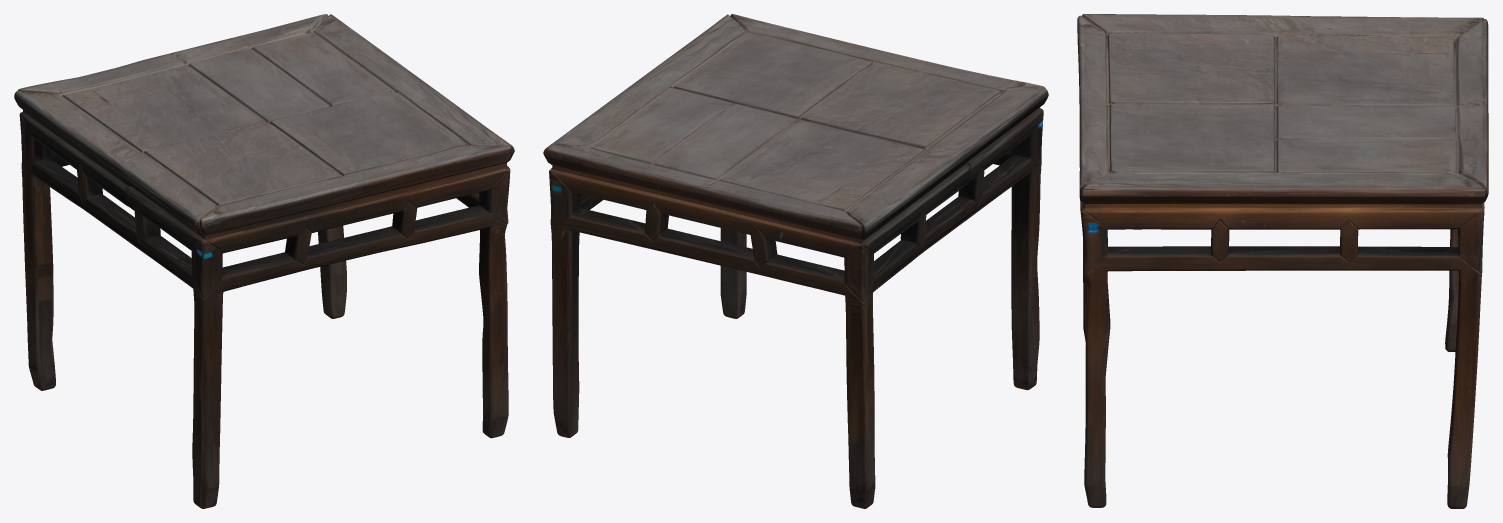
Rendered from 方少奇使用过的桌子.glb.
3 renders of one model, left to right at view 1: azimuth 30°, elevation 25°; view 2: azimuth 150°, elevation 25°; view 3: azimuth 270°, elevation 25°, orthographic. The views are drawn at different scales.
Parts seen in each view (by area): view 1: texture_pbr_v128; view 2: texture_pbr_v128; view 3: texture_pbr_v128.
Part boxes in pixels (x1,y1,x2,y2): texture_pbr_v128: (14,14,514,508); texture_pbr_v128: (543,14,1048,508); texture_pbr_v128: (1077,14,1488,508).
Size of the model in its own units: 0.7334 by 0.6448 by 0.7331.
Materials: 1 (1 with a texture image).
